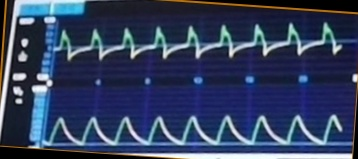Accumulation Flow: (59, 16, 352, 77)
Volume: (48, 103, 348, 148)
